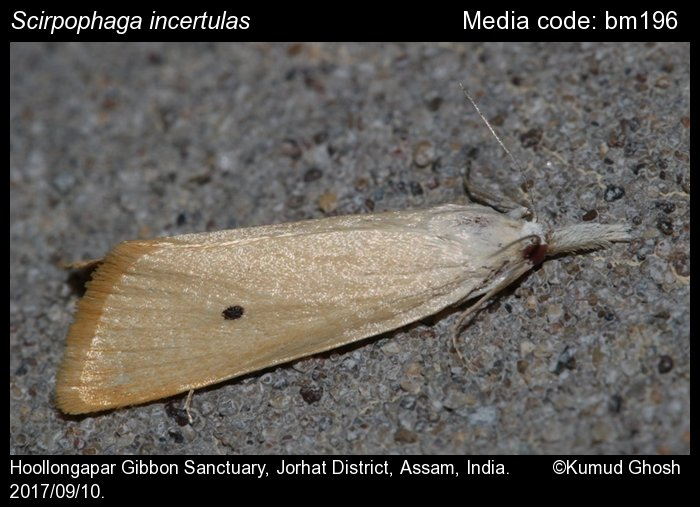Crambidae: (51, 194, 625, 425)
